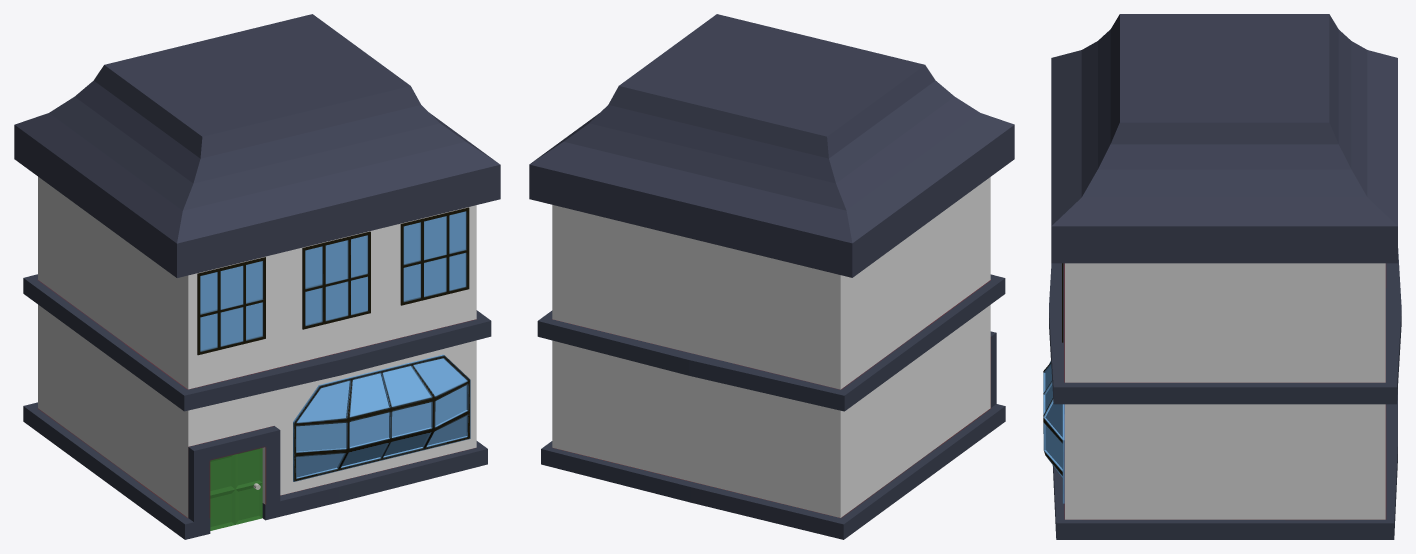
Rendered from House 1.fbx.
3 views of the same model, side by side, from view 1: azimuth 30°, elevation 25°; view 2: azimuth 150°, elevation 25°; view 3: azimuth 270°, elevation 25° (orthographic). The views are drawn at different scales.
Visible parts, largest first — view 1: Houes 1; view 2: Houes 1; view 3: Houes 1.
Part boxes in pixels (bbox=[...]): Houes 1: bbox=[14, 14, 500, 539]; Houes 1: bbox=[529, 14, 1014, 539]; Houes 1: bbox=[1043, 14, 1401, 539].
Size of the model in its own units: 5320 by 5786 by 4783.
7 materials, 6 textured.
